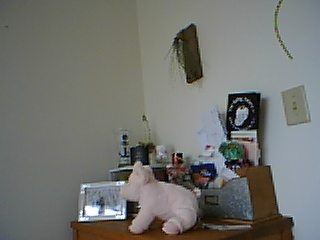piggy: (120, 161, 203, 235)
